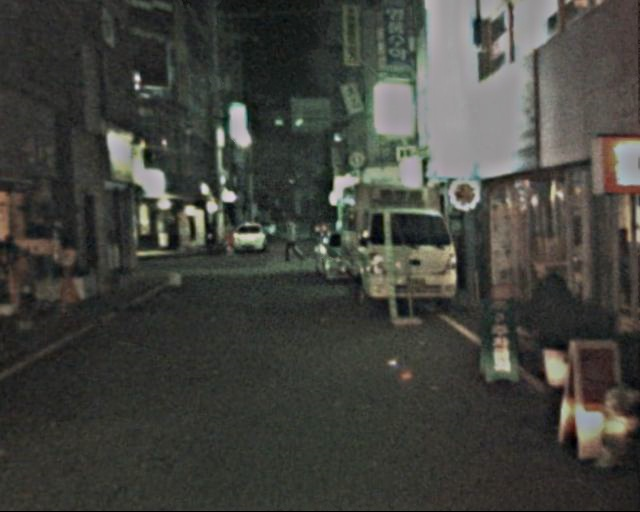person: (277, 214, 302, 268)
